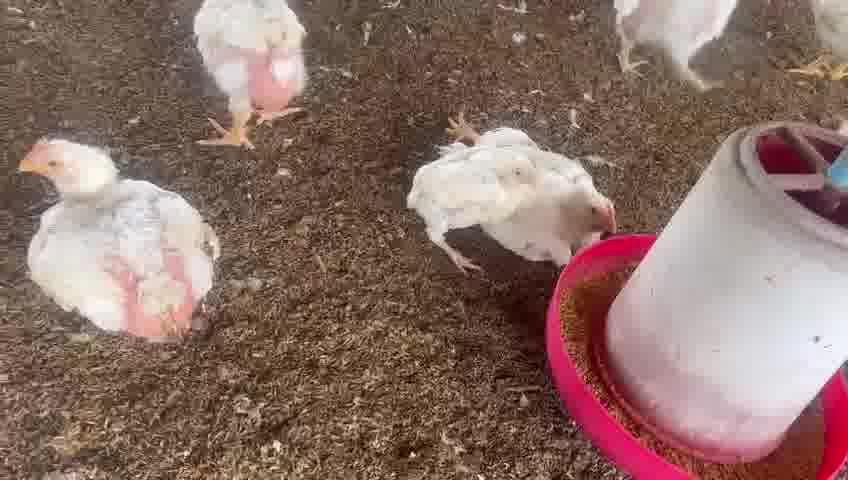AbNormal: (444, 116, 628, 254), (391, 138, 528, 261)
Normal: (0, 125, 221, 350), (190, 0, 331, 165), (574, 0, 750, 104)
